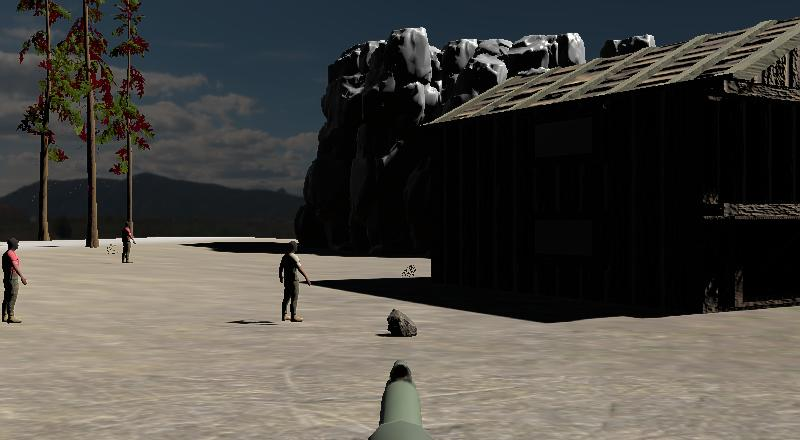Human: (276, 238, 314, 325), (0, 234, 30, 328), (0, 234, 30, 326), (118, 220, 137, 266)
